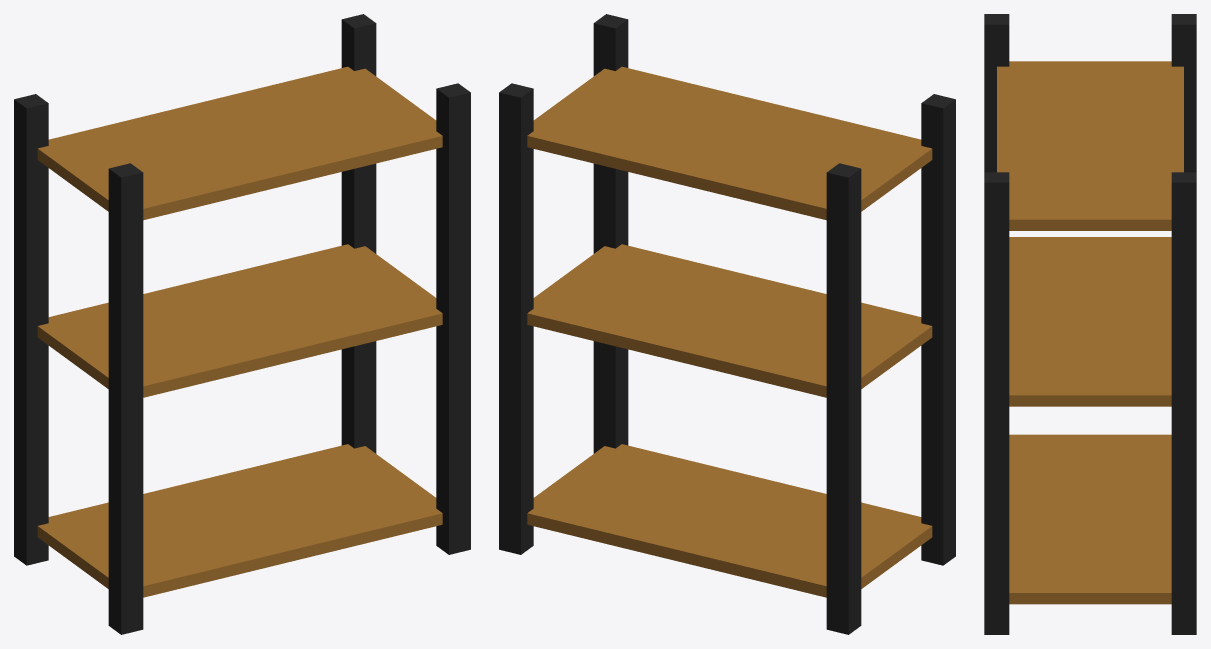
The model's file is storeroom_shelf.glb.
3 views of the same model, side by side, from view 1: azimuth 30°, elevation 25°; view 2: azimuth 150°, elevation 25°; view 3: azimuth 270°, elevation 25° (orthographic).
Parts seen in each view (by area): view 1: Cube; view 2: Cube; view 3: Cube.
Part boxes in pixels (<box>): Cube: <box>14,14,470,634</box>; Cube: <box>499,14,955,634</box>; Cube: <box>984,14,1196,634</box>.
Size of the model in its own units: 3.2 by 4 by 1.7.
